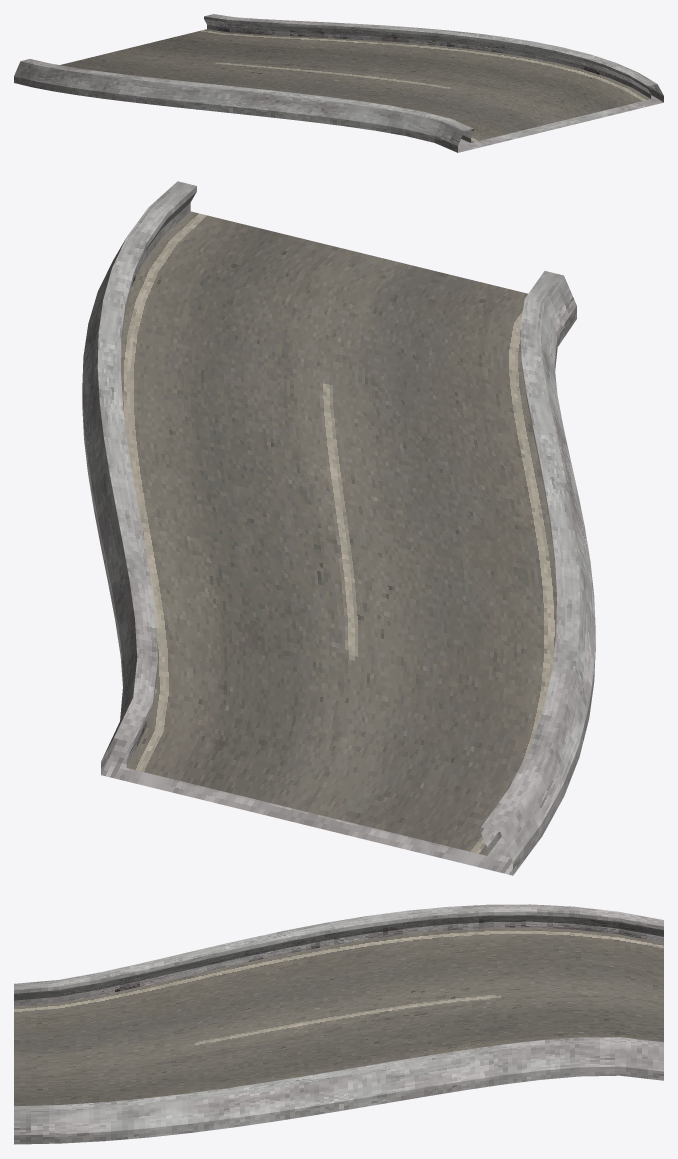
File: road-Chicane-Flat-BiSlopeDown-Down1-Left1-Size2.glb
3 views of the same model, one above another, from view 1: azimuth 30°, elevation 25°; view 2: azimuth 150°, elevation 25°; view 3: azimuth 270°, elevation 25° (orthographic). The views are drawn at different scales.
Visible parts, largest first — view 1: road-Chicane-Flat-BiSlopeDown-Down1-Left1-Size2; view 2: road-Chicane-Flat-BiSlopeDown-Down1-Left1-Size2; view 3: road-Chicane-Flat-BiSlopeDown-Down1-Left1-Size2.
Boxes of the visible parts, x1,y1,x2,y2 form: road-Chicane-Flat-BiSlopeDown-Down1-Left1-Size2: (14, 14, 663, 152); road-Chicane-Flat-BiSlopeDown-Down1-Left1-Size2: (82, 181, 595, 875); road-Chicane-Flat-BiSlopeDown-Down1-Left1-Size2: (14, 904, 663, 1144).
Bounding box in the file's own units: 2 × 0.3438 × 2.
2 materials, 2 textured.
